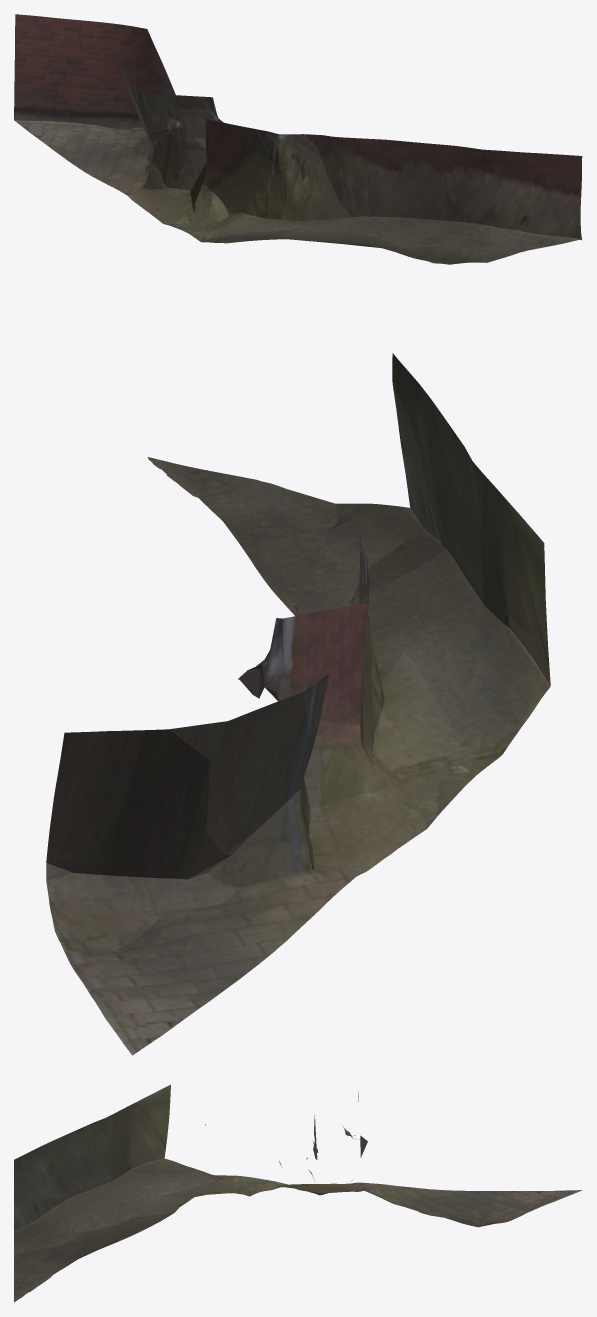
3 renders of one model, top to bottom at view 1: azimuth 30°, elevation 25°; view 2: azimuth 150°, elevation 25°; view 3: azimuth 270°, elevation 25°, orthographic. The views are drawn at different scales.
Size of the model in its own units: 4.3 by 1.59 by 7.65.
1 material, 1 textured.
